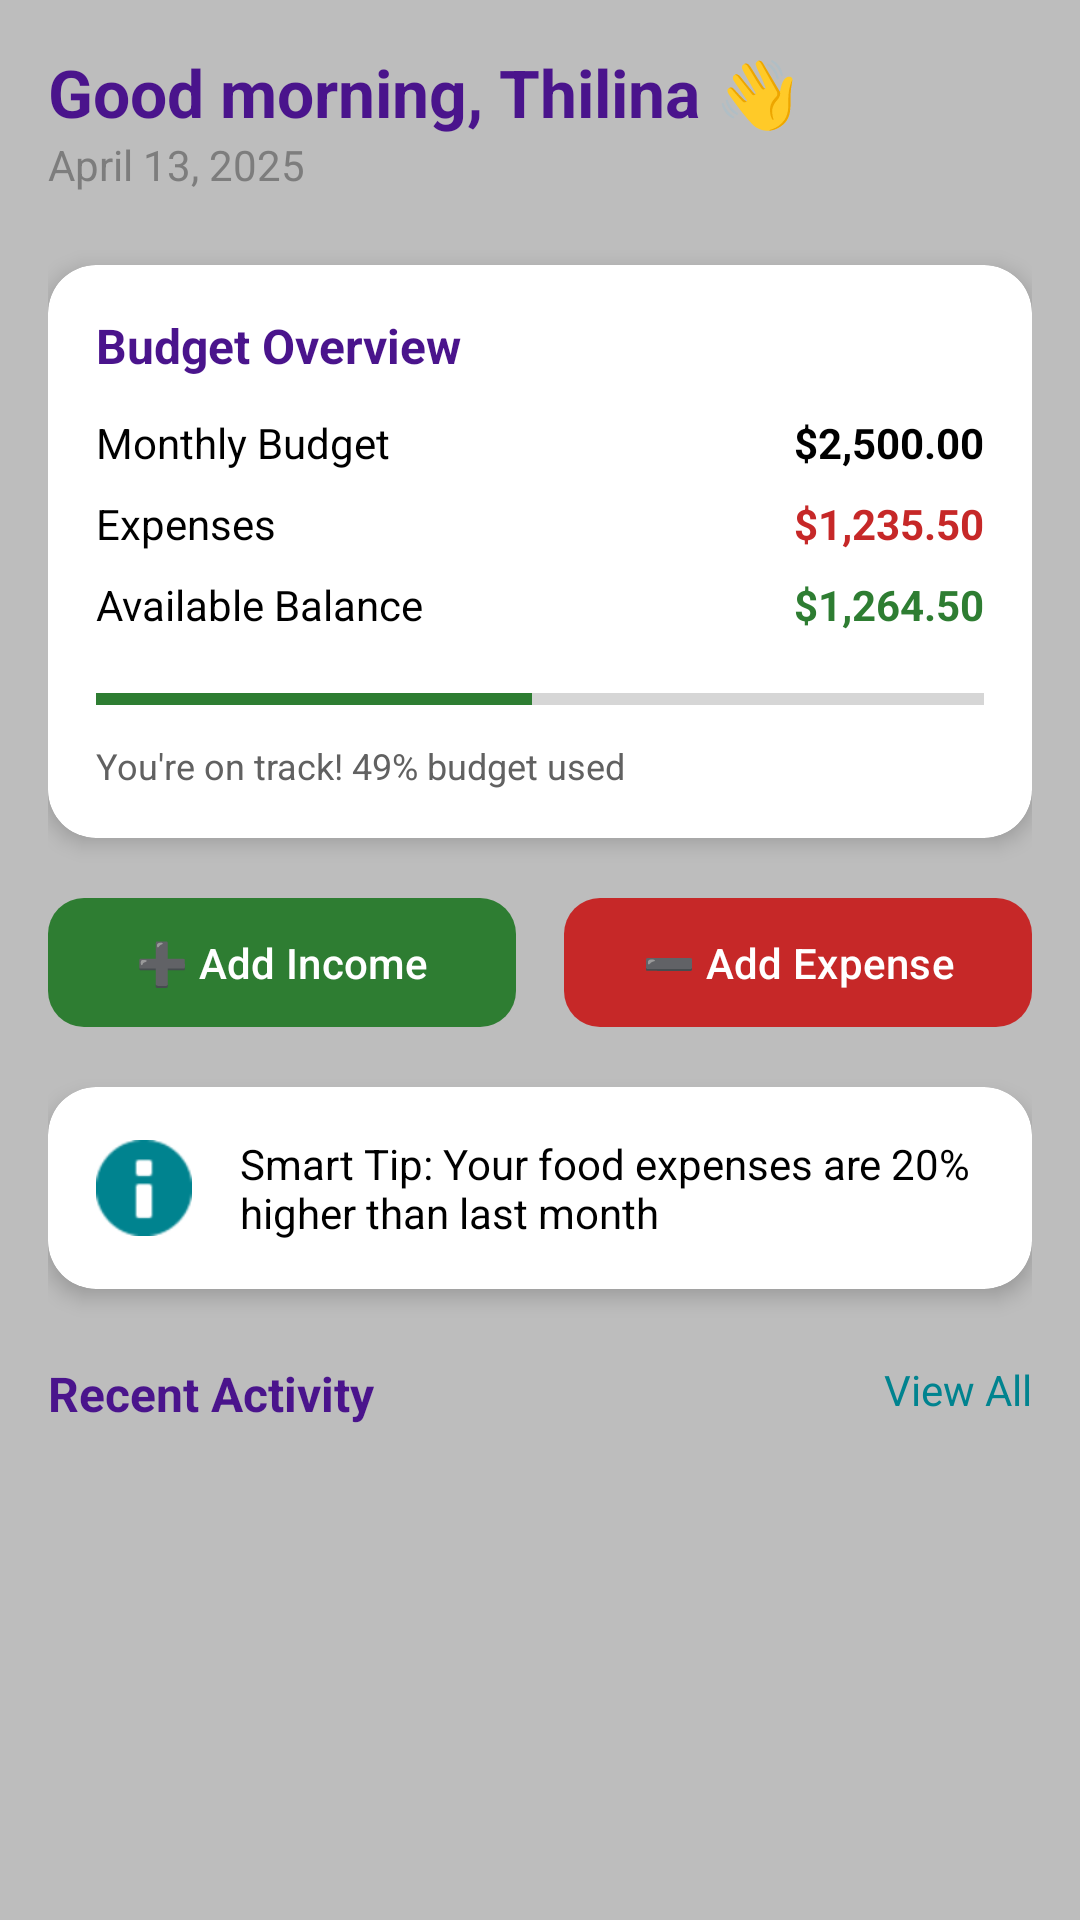

Icon click points for this 1080 x 1920 phone screenshot, format [x,y]:
info: [144,1188]
